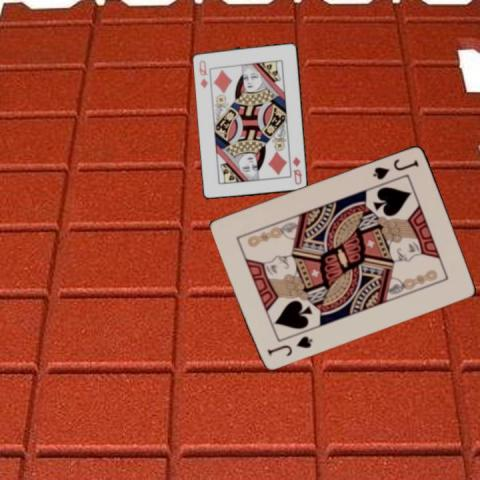Js: (370, 155, 420, 181), (264, 333, 314, 357)
Qd: (196, 58, 209, 90), (290, 155, 303, 186)
